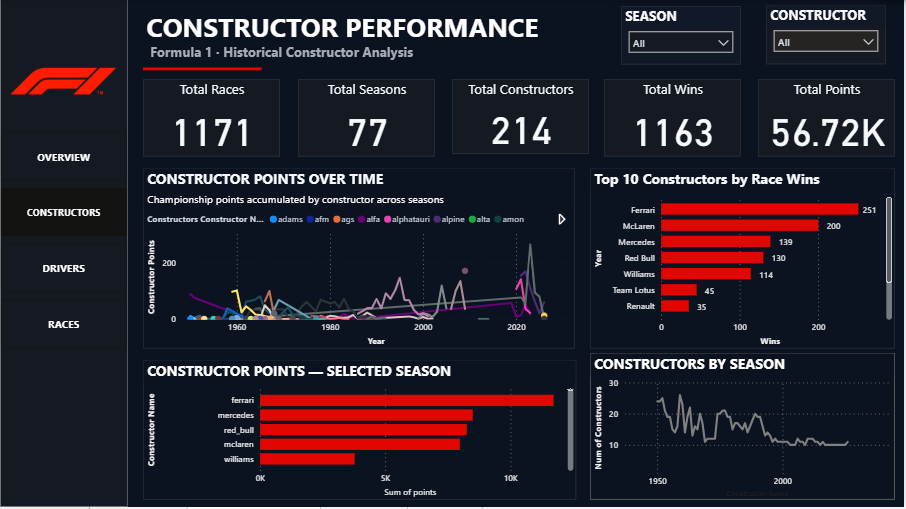

What the dashboard file says about the page in this screenshot:
{"tool":"powerbi","page":{"name":"   CONSTRUCTORS","canvas":[1280,720],"ordinal":1},"visuals":[{"type":"slicer","title":"CONSTRUCTOR","fields":{"Values":["constructors.constructorRef"]},"box":[1085.7,8.6,170,84.3],"z":0},{"type":"lineChart","title":"CONSTRUCTORS BY SEASON","fields":{"Category":["races.year"],"Y":["Count(results.constructorId)"]},"box":[836,502,432,208],"z":1000},{"type":"lineChart","title":"CONSTRUCTOR POINTS OVER TIME","fields":{"Y":["Sum(results.points)"],"Category":["races.year"],"Series":["constructors.constructorRef"]},"box":[202,240,612,256],"z":2000},{"type":"clusteredBarChart","title":"Top 10 Constructors by Race Wins","fields":{"Y":["results.Wins"],"Category":["constructors.name"]},"box":[836,240,432,256],"z":3000},{"type":"clusteredBarChart","title":"CONSTRUCTOR POINTS — SELECTED SEASON","fields":{"Category":["constructors.constructorRef"],"Y":["Sum(results.points)"]},"box":[202,512,614,198],"z":4000},{"type":"slicer","title":"SEASON","fields":{"Values":["races.year"]},"box":[880,10,170,82.9],"z":5000},{"type":"textbox","box":[202,8,662,84],"z":6000},{"type":"shape","box":[202,24,168,150],"z":7000},{"type":"card","title":"Total Races","fields":{"Values":["Count(races.raceId)"]},"box":[202,114,194,110],"z":8000},{"type":"card","title":"Total Seasons","fields":{"Values":["Count(races.year)"]},"box":[422,114,194,110],"z":9000},{"type":"card","title":"Total Constructors","fields":{"Values":["CountNonNull(constructors.constructorId)"]},"box":[640,114,194,106],"z":10000},{"type":"card","title":"Total Wins","fields":{"Values":["results.Wins"]},"box":[856,114,194,110],"z":11000},{"type":"card","title":"Total Points","fields":{"Values":["Sum(results.points)"]},"box":[1074,114,194,110],"z":12000},{"type":"shape","box":[0,0,181.4,720],"z":13000},{"type":"image","box":[6,34,168,158],"z":14000},{"type":"pageNavigator","box":[2,188,178,308],"z":15000}]}

Visuals, with their boxes on the page's 1280x720 design canvas (x1, y1, x2, y2). These are canvas units, not pixel positions in the 906x509 screenshot, which may show the page scaled, cropped or inside an application window:
"CONSTRUCTOR" slicer: pyautogui.locateOnScreen(1086, 9, 1256, 93)
"CONSTRUCTORS BY SEASON" lineChart: pyautogui.locateOnScreen(836, 502, 1268, 710)
"CONSTRUCTOR POINTS OVER TIME" lineChart: pyautogui.locateOnScreen(202, 240, 814, 496)
"Top 10 Constructors by Race Wins" clusteredBarChart: pyautogui.locateOnScreen(836, 240, 1268, 496)
"CONSTRUCTOR POINTS — SELECTED SEASON" clusteredBarChart: pyautogui.locateOnScreen(202, 512, 816, 710)
"SEASON" slicer: pyautogui.locateOnScreen(880, 10, 1050, 93)
textbox: pyautogui.locateOnScreen(202, 8, 864, 92)
shape: pyautogui.locateOnScreen(202, 24, 370, 174)
"Total Races" card: pyautogui.locateOnScreen(202, 114, 396, 224)
"Total Seasons" card: pyautogui.locateOnScreen(422, 114, 616, 224)
"Total Constructors" card: pyautogui.locateOnScreen(640, 114, 834, 220)
"Total Wins" card: pyautogui.locateOnScreen(856, 114, 1050, 224)
"Total Points" card: pyautogui.locateOnScreen(1074, 114, 1268, 224)
shape: pyautogui.locateOnScreen(0, 0, 181, 720)
image: pyautogui.locateOnScreen(6, 34, 174, 192)
pageNavigator: pyautogui.locateOnScreen(2, 188, 180, 496)
